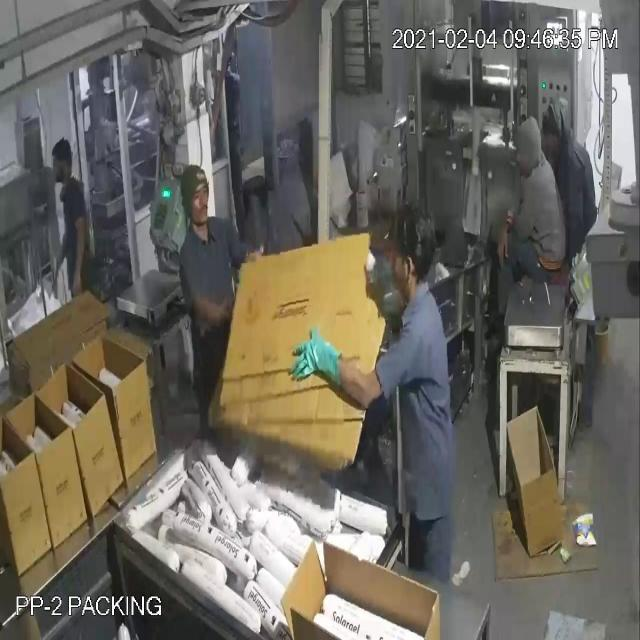No_Gloves: (20, 65, 334, 368)
